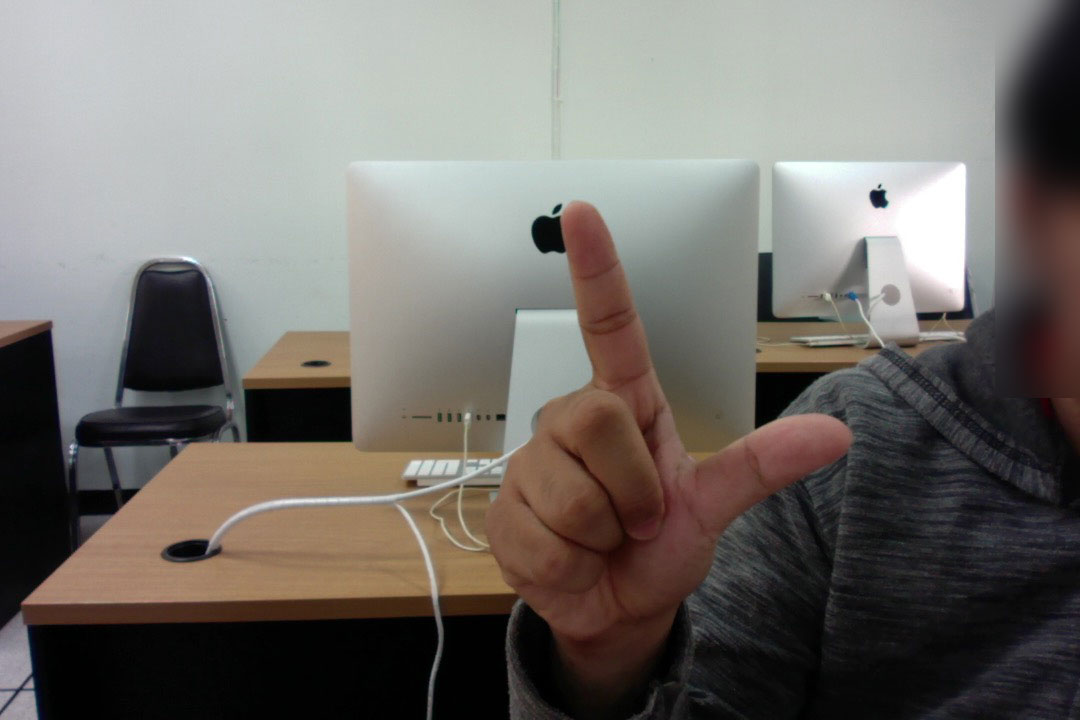lor: (471, 184, 885, 654)
